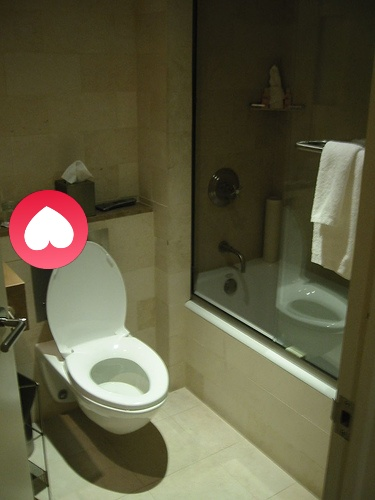love: (9, 190, 88, 269)
